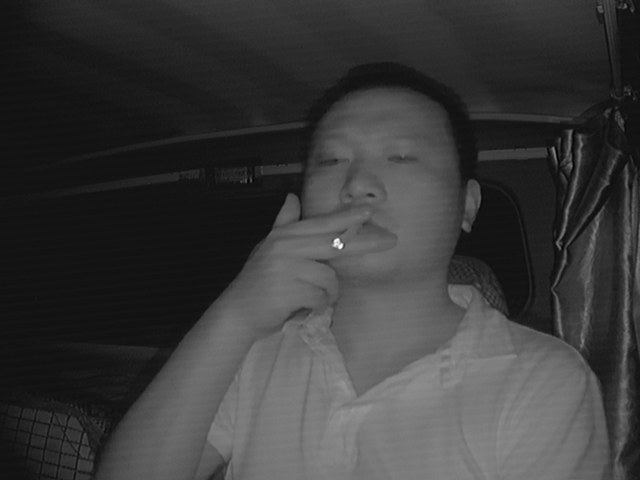hand: (282, 204, 379, 306)
